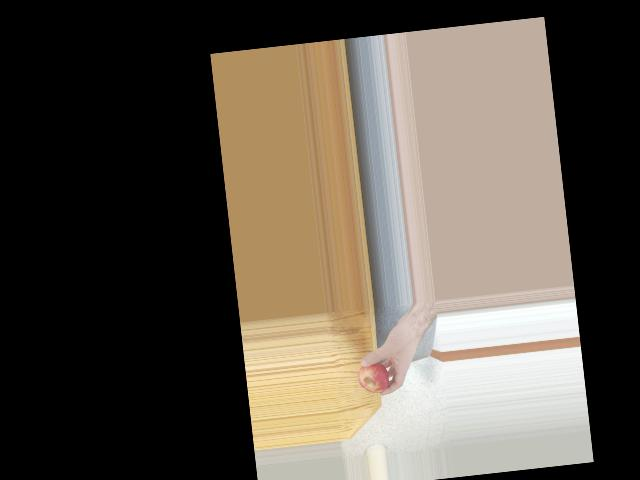apple: (355, 357, 391, 396)
